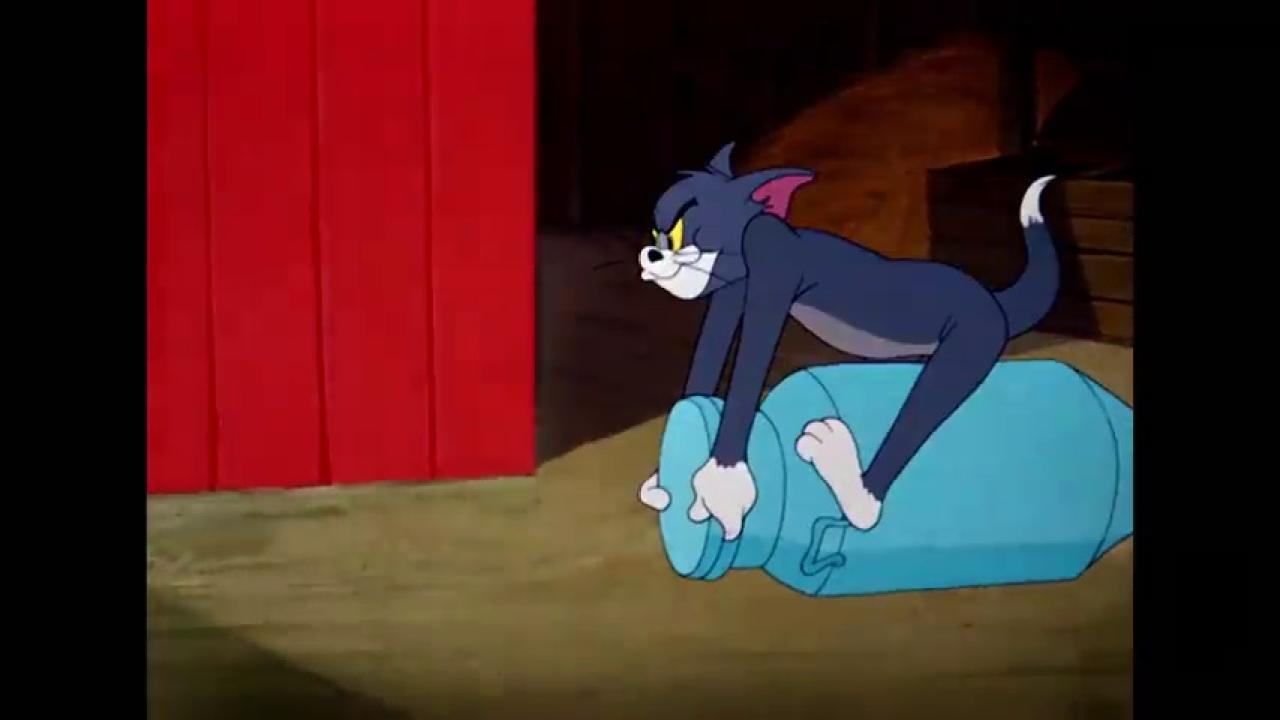Tom: (636, 137, 1066, 543)
